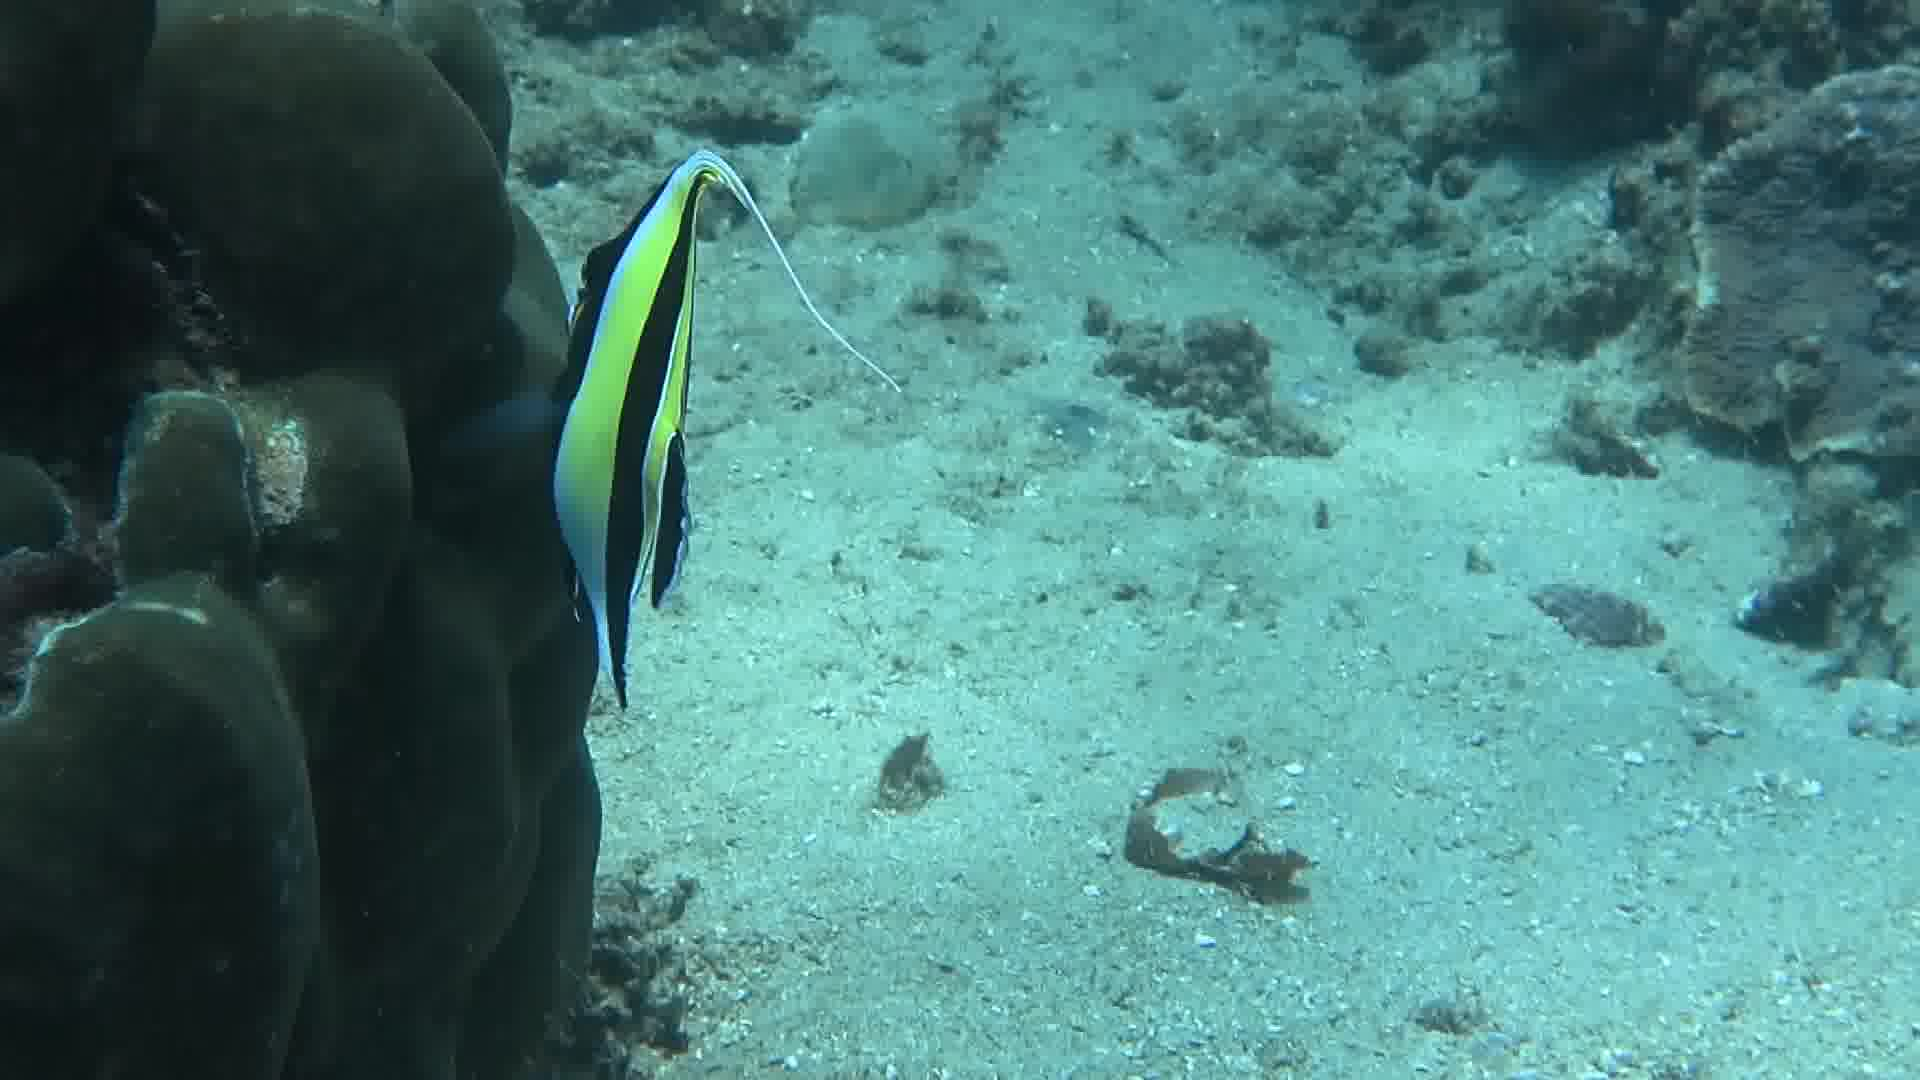Zanclus cornutus: (529, 169, 729, 709)
